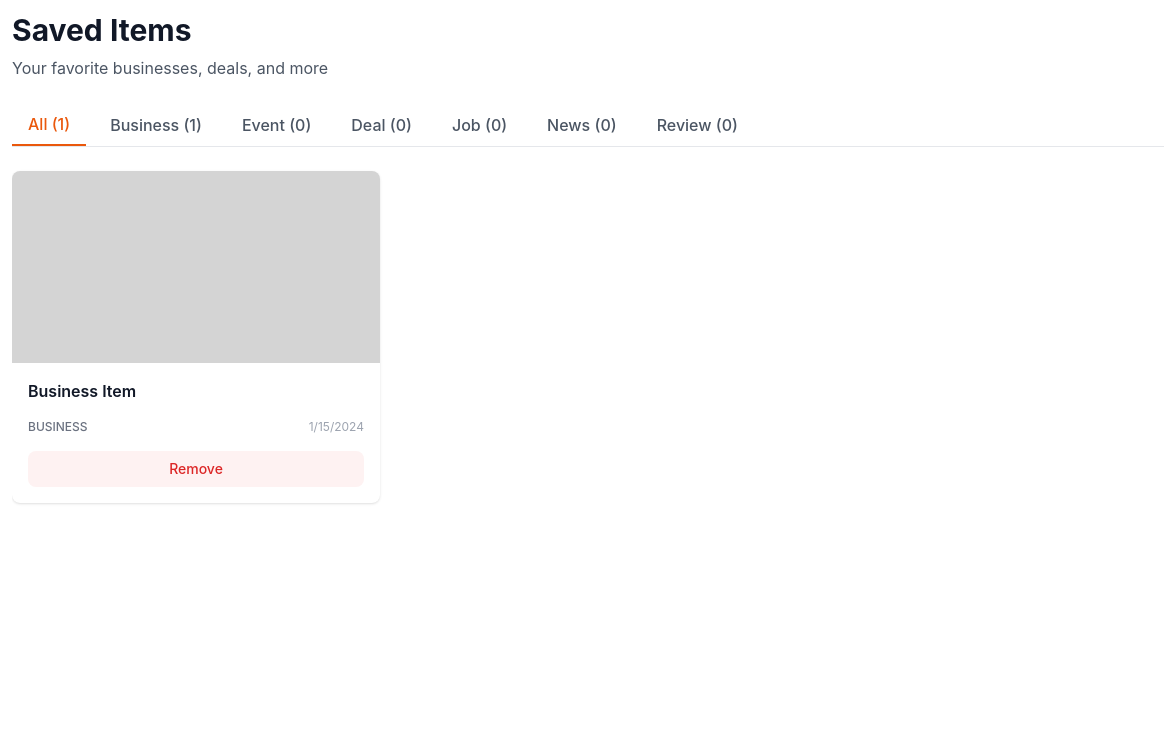
Test: Saved Items Page › should display error message on removal failure
Check: the heading "Business Item" is shown, box [28, 381, 136, 401]
Click the button "Remove".
click(196, 469)  # box [28, 451, 364, 487]
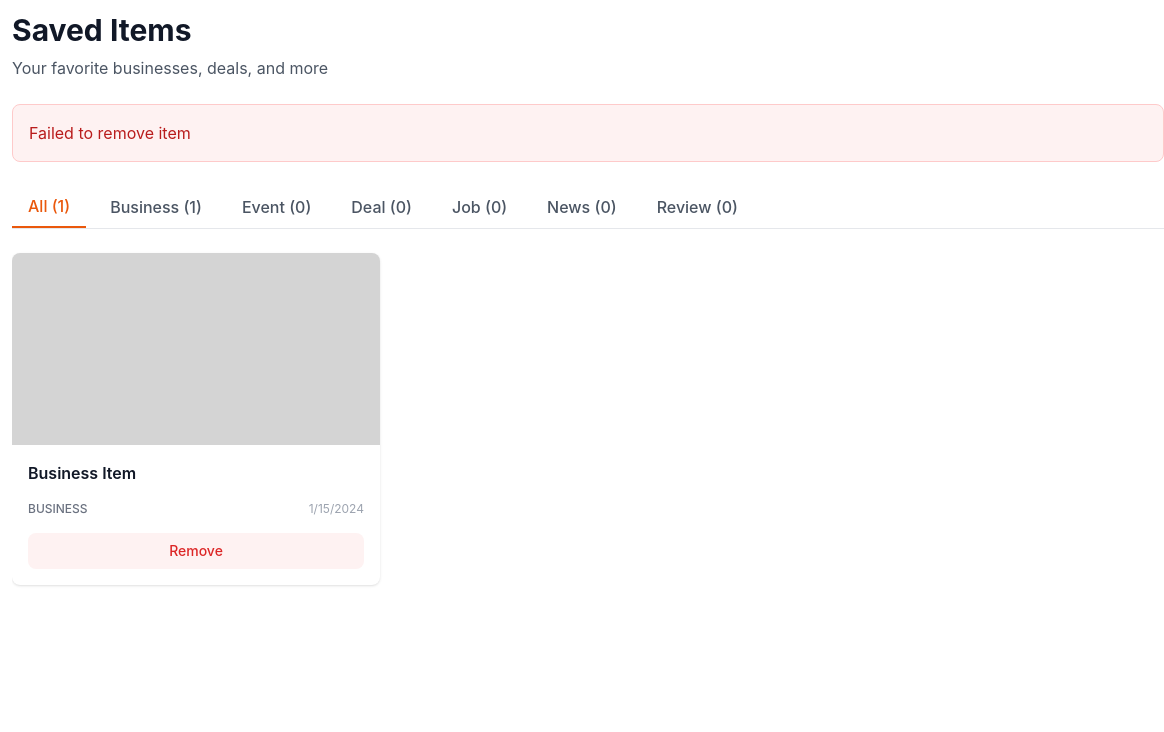
Check: the text "Failed to remove item" is shown, box [12, 104, 1163, 162]
